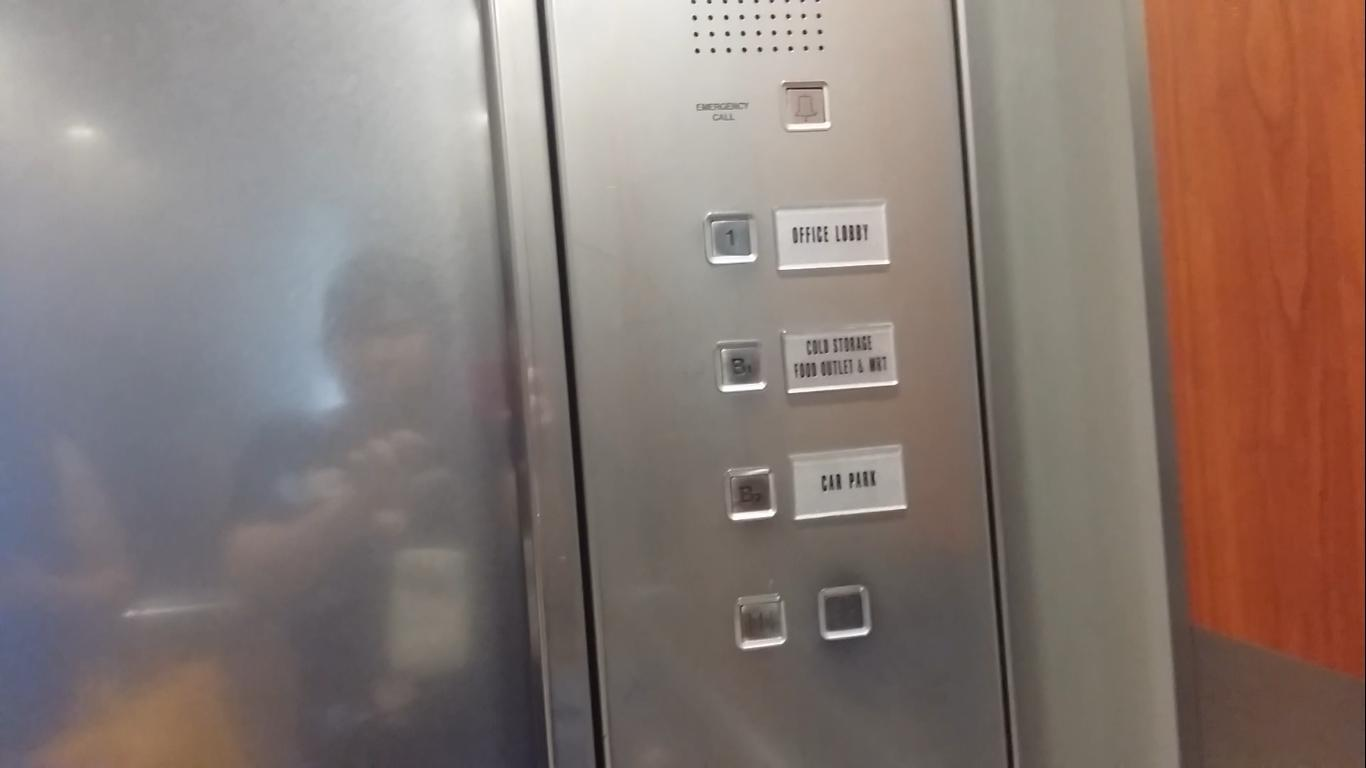1: (701, 206, 759, 268)
B1: (711, 333, 766, 396)
B2: (720, 461, 777, 523)
alarm: (777, 77, 832, 132)
blur: (813, 581, 874, 644)
open: (729, 589, 790, 653)
